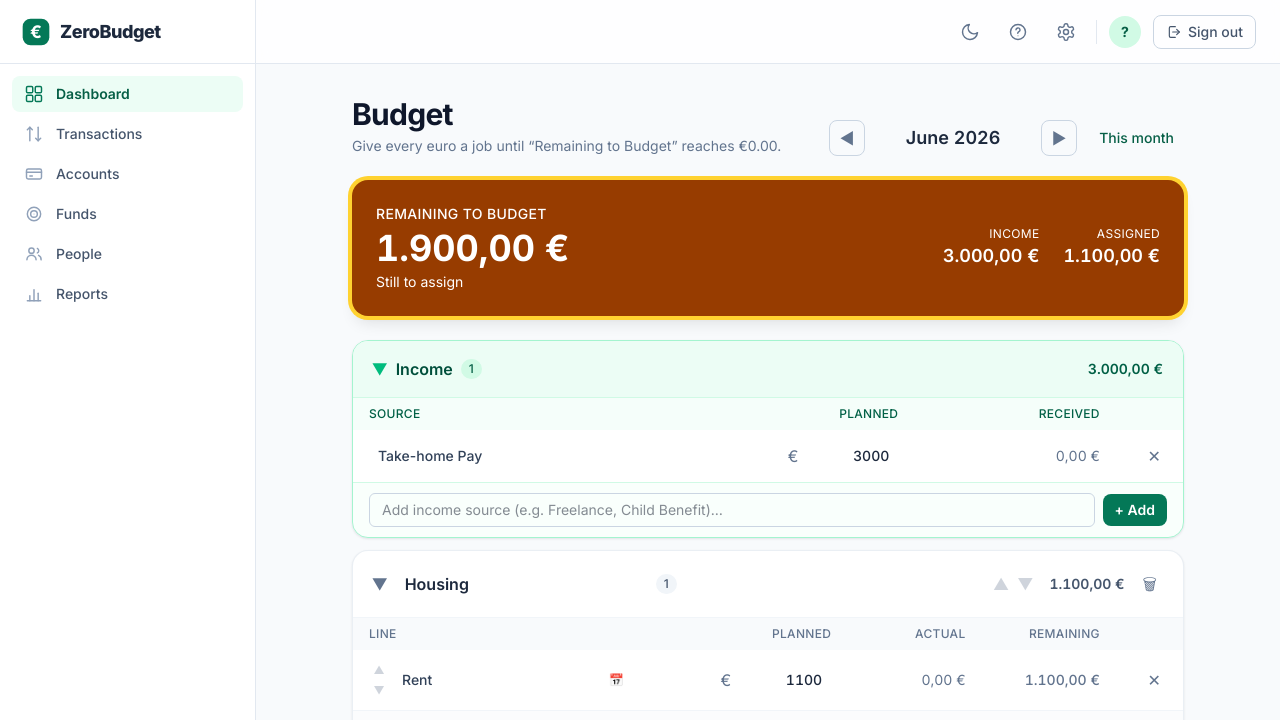
DashboardPage optimistic editing › optimistically drives Remaining to €0,00 on a successful edit
Replace the text in the field named "Planned amount for Rent" with "3000" at (783, 680), box [735, 665, 831, 695]
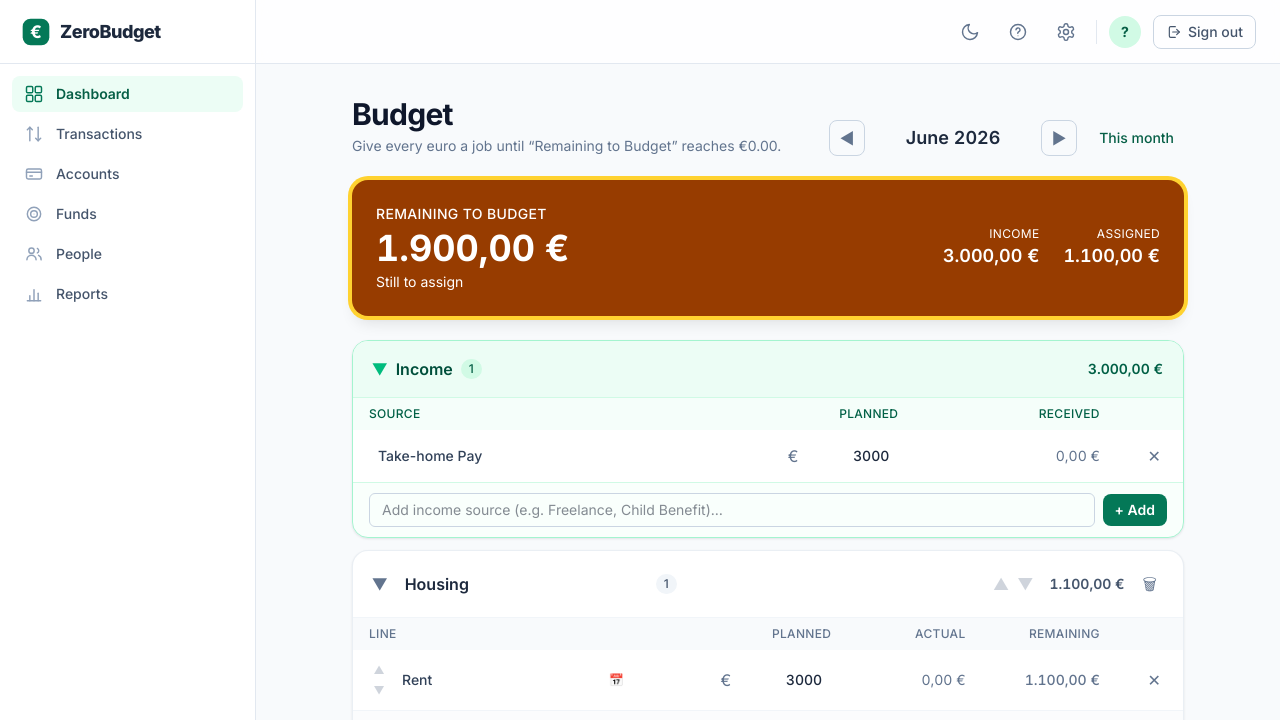
Leave the field named "Planned amount for Rent", box [735, 665, 831, 695]
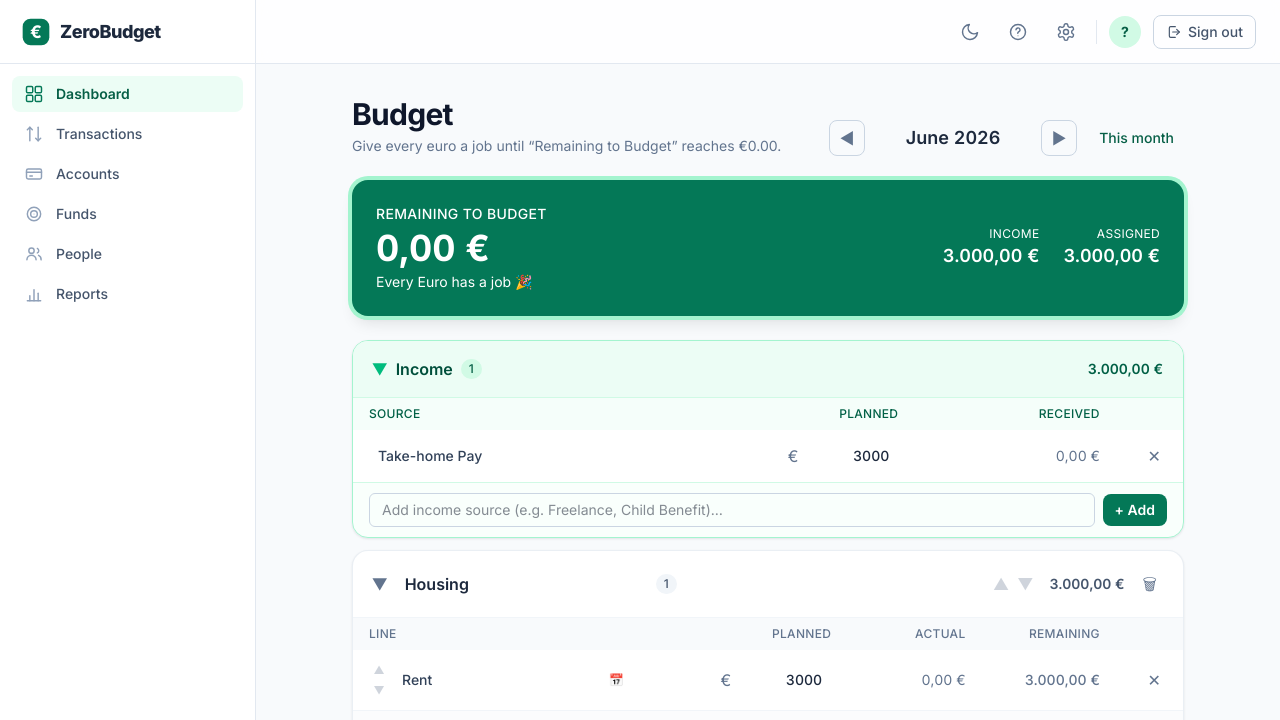
Now the text "Every Euro has a job 🎉" is shown, box [376, 272, 547, 292]
